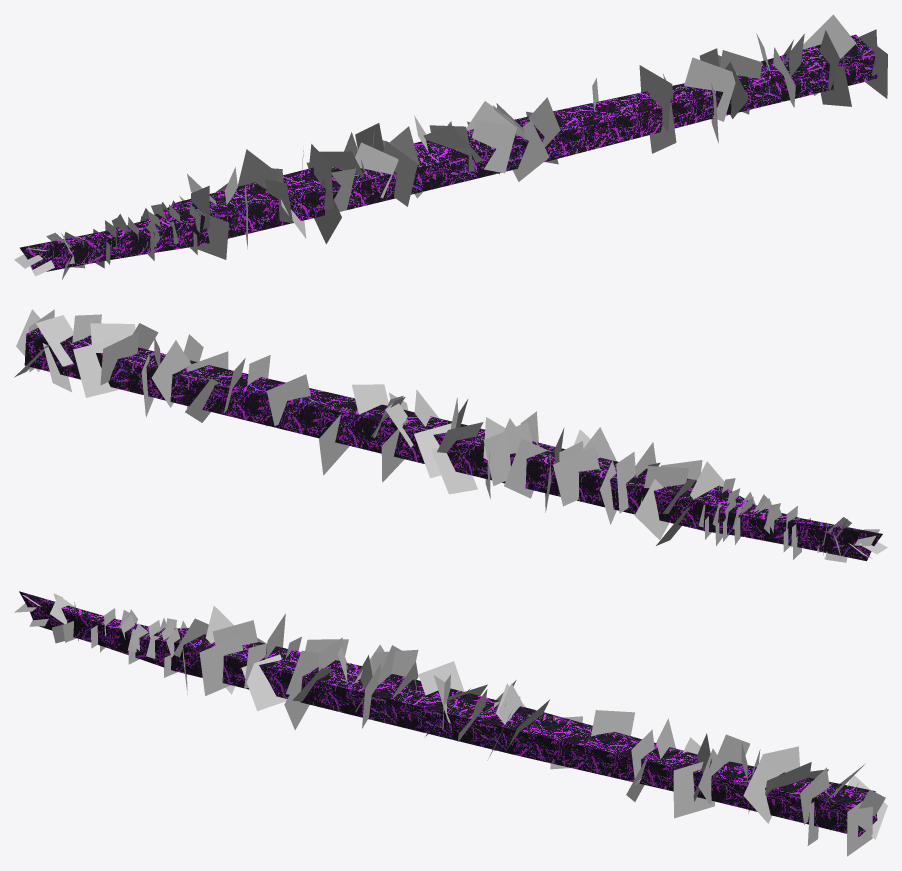
The model's file is re_mur_de_ronce.fbx.
The picture shows the model from 3 angles, top to bottom: view 1: azimuth 30°, elevation 25°; view 2: azimuth 150°, elevation 25°; view 3: azimuth 330°, elevation 25°; orthographic projection.
Parts seen in each view (by area): view 1: Cube.002, Cube.001, Cube.002|vines|Dupli|13, Cube.002|vines|Dupli|27, Cube.002|vines|Dupli|58, Cube.002|vines|Dupli|57, Cube.002|vines|Dupli|14, Cube.002|vines|Dupli|29, Cube.002|vines|Dupli|20, Cube.002|vines|Dupli|53, Cube.002|vines|Dupli|37, Cube.002|vines|Dupli|3 (+12 smaller); view 2: Cube.002, Cube.001, Cube.002|vines|Dupli|43, Cube.002|vines|Dupli|8, Cube.002|vines|Dupli|10, Cube.002|vines|Dupli|45, Cube.002|vines|Dupli|36, Cube.002|vines|Dupli|14, Cube.002|vines|Dupli|26, Cube.002|vines|Dupli|44, Cube.002|vines|Dupli|12, Cube.002|vines|Dupli|39 (+13 smaller); view 3: Cube.002, Cube.001, Cube.002|vines|Dupli|55, Cube.002|vines|Dupli|5, Cube.002|vines|Dupli|56, Cube.002|vines|Dupli|4, Cube.002|vines|Dupli|1, Cube.002|vines|Dupli|36, Cube.002|vines|Dupli|28, Cube.002|vines|Dupli|26, Cube.002|vines|Dupli|23, Cube.002|vines|Dupli|12 (+7 smaller).
Part boxes in pixels (x1,y1,x2,y2): Cube.002: (178,34,877,245); Cube.001: (20,202,199,271); Cube.002|vines|Dupli|13: (684,57,737,121); Cube.002|vines|Dupli|27: (472,119,517,173); Cube.002|vines|Dupli|58: (383,141,417,206); Cube.002|vines|Dupli|57: (512,120,549,181); Cube.002|vines|Dupli|14: (803,14,856,58); Cube.002|vines|Dupli|29: (355,142,398,198); Cube.002|vines|Dupli|20: (237,149,278,189); Cube.002|vines|Dupli|53: (189,210,228,259); Cube.002|vines|Dupli|37: (528,97,560,147); Cube.002|vines|Dupli|3: (820,66,851,106); Cube.002: (24,327,722,530); Cube.001: (703,489,882,561); Cube.002|vines|Dupli|43: (553,446,599,506); Cube.002|vines|Dupli|8: (73,338,120,397); Cube.002|vines|Dupli|10: (151,340,190,407); Cube.002|vines|Dupli|45: (504,438,547,498); Cube.002|vines|Dupli|36: (267,374,310,425); Cube.002|vines|Dupli|14: (36,315,73,366); Cube.002|vines|Dupli|26: (483,422,532,485); Cube.002|vines|Dupli|44: (431,447,477,494); Cube.002|vines|Dupli|12: (100,331,139,385); Cube.002|vines|Dupli|39: (634,479,669,539); Cube.002: (176,633,877,836); Cube.001: (19,591,188,671); Cube.002|vines|Dupli|55: (199,635,242,695); Cube.002|vines|Dupli|5: (673,762,714,818); Cube.002|vines|Dupli|56: (241,654,286,711); Cube.002|vines|Dupli|4: (743,756,779,823); Cube.002|vines|Dupli|1: (847,801,872,856); Cube.002|vines|Dupli|36: (591,710,634,736); Cube.002|vines|Dupli|28: (418,661,464,695); Cube.002|vines|Dupli|26: (371,649,418,676); Cube.002|vines|Dupli|23: (213,620,257,645); Cube.002|vines|Dupli|12: (762,746,799,774).
Bounding box in the file's own units: 968 × 97.66 × 113.
